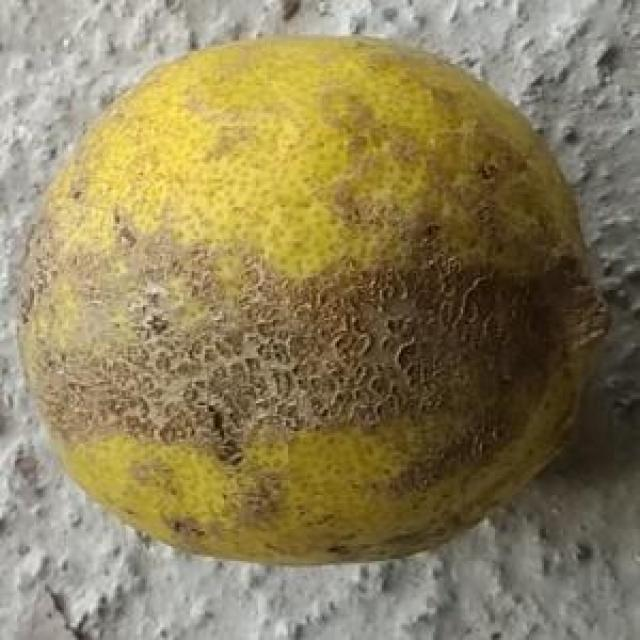lemon: (10, 36, 606, 564)
